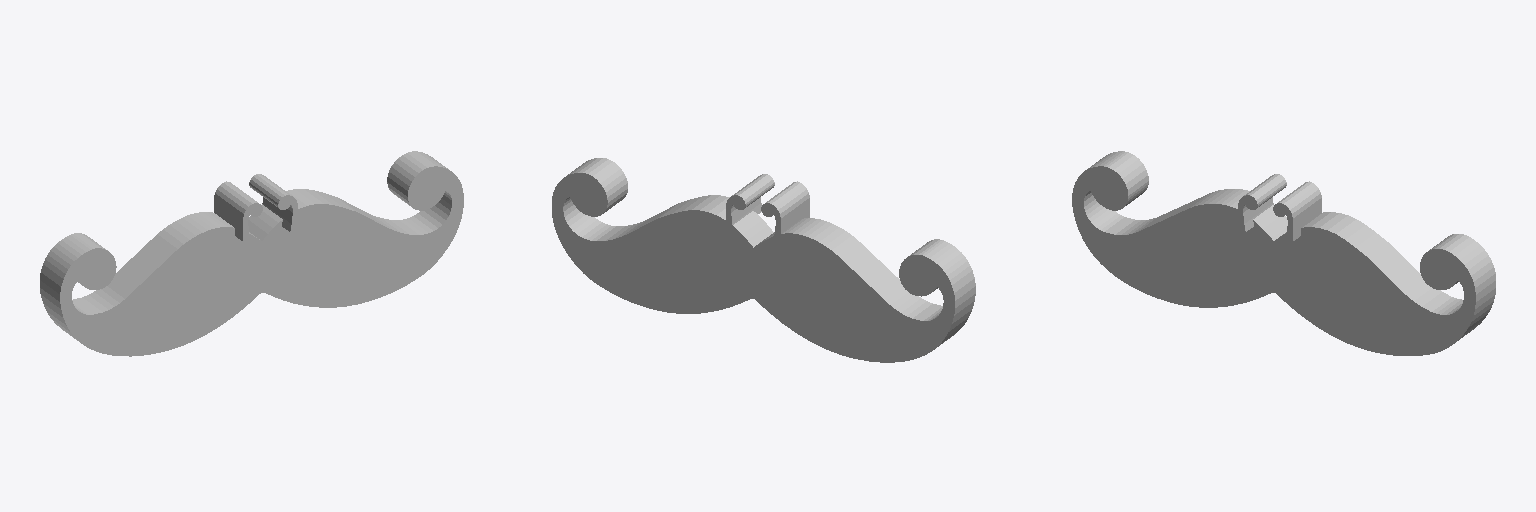
The model's file is movember_mustache.obj.
The picture shows the model from 3 angles: view 1: azimuth 30°, elevation 25°; view 2: azimuth 150°, elevation 25°; view 3: azimuth 330°, elevation 25°; orthographic projection.
Parts seen in each view (by area): view 1: Object.1; view 2: Object.1; view 3: Object.1.
Boxes of the visible parts, x1,y1,x2,y2 form: Object.1: [40, 151, 463, 356]; Object.1: [552, 158, 975, 362]; Object.1: [1072, 151, 1495, 355].
Size of the model in its own units: 100 by 32.09 by 12.55.